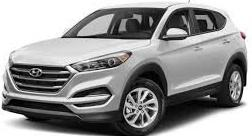SUV: (3, 4, 247, 136)
